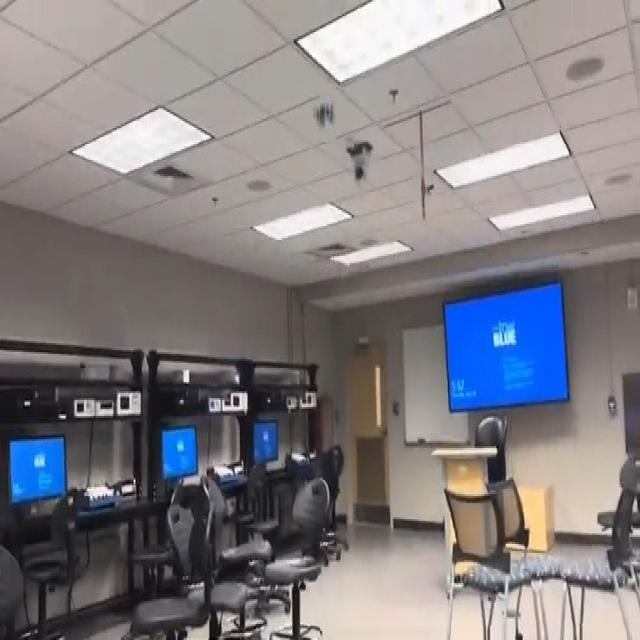drone: (300, 90, 347, 134)
